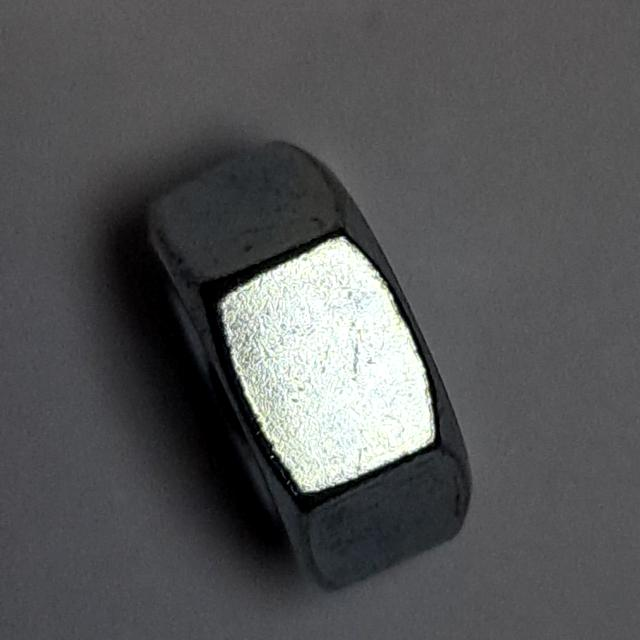Side_Excellent: (128, 128, 483, 604)
